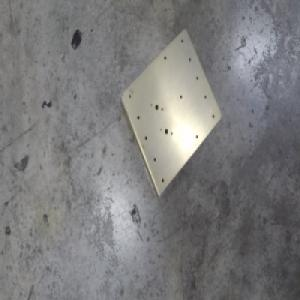MetalSheet: (119, 27, 223, 199)
